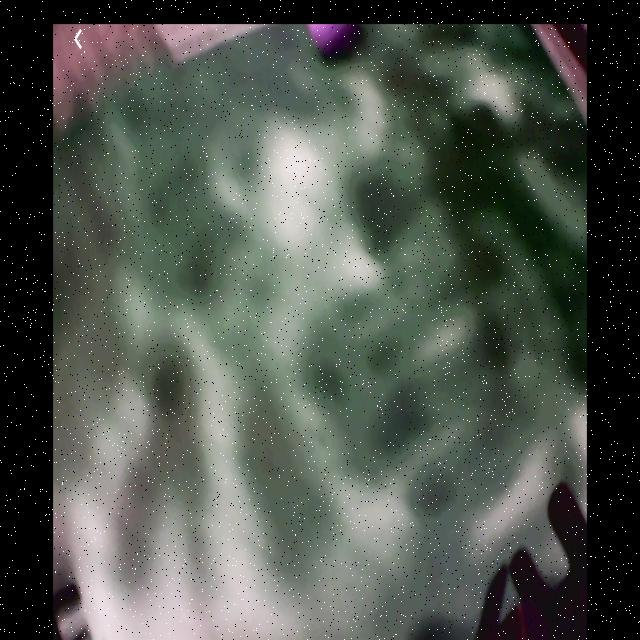ball: (309, 26, 356, 53)
